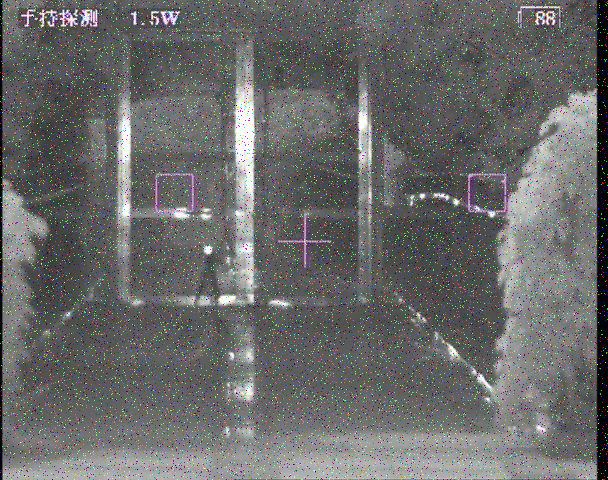my: (203, 245, 213, 255)
